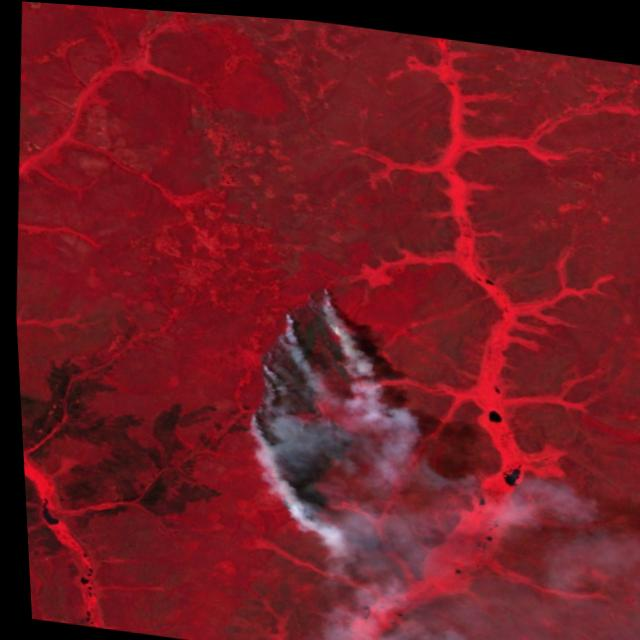fire: (230, 271, 379, 536)
